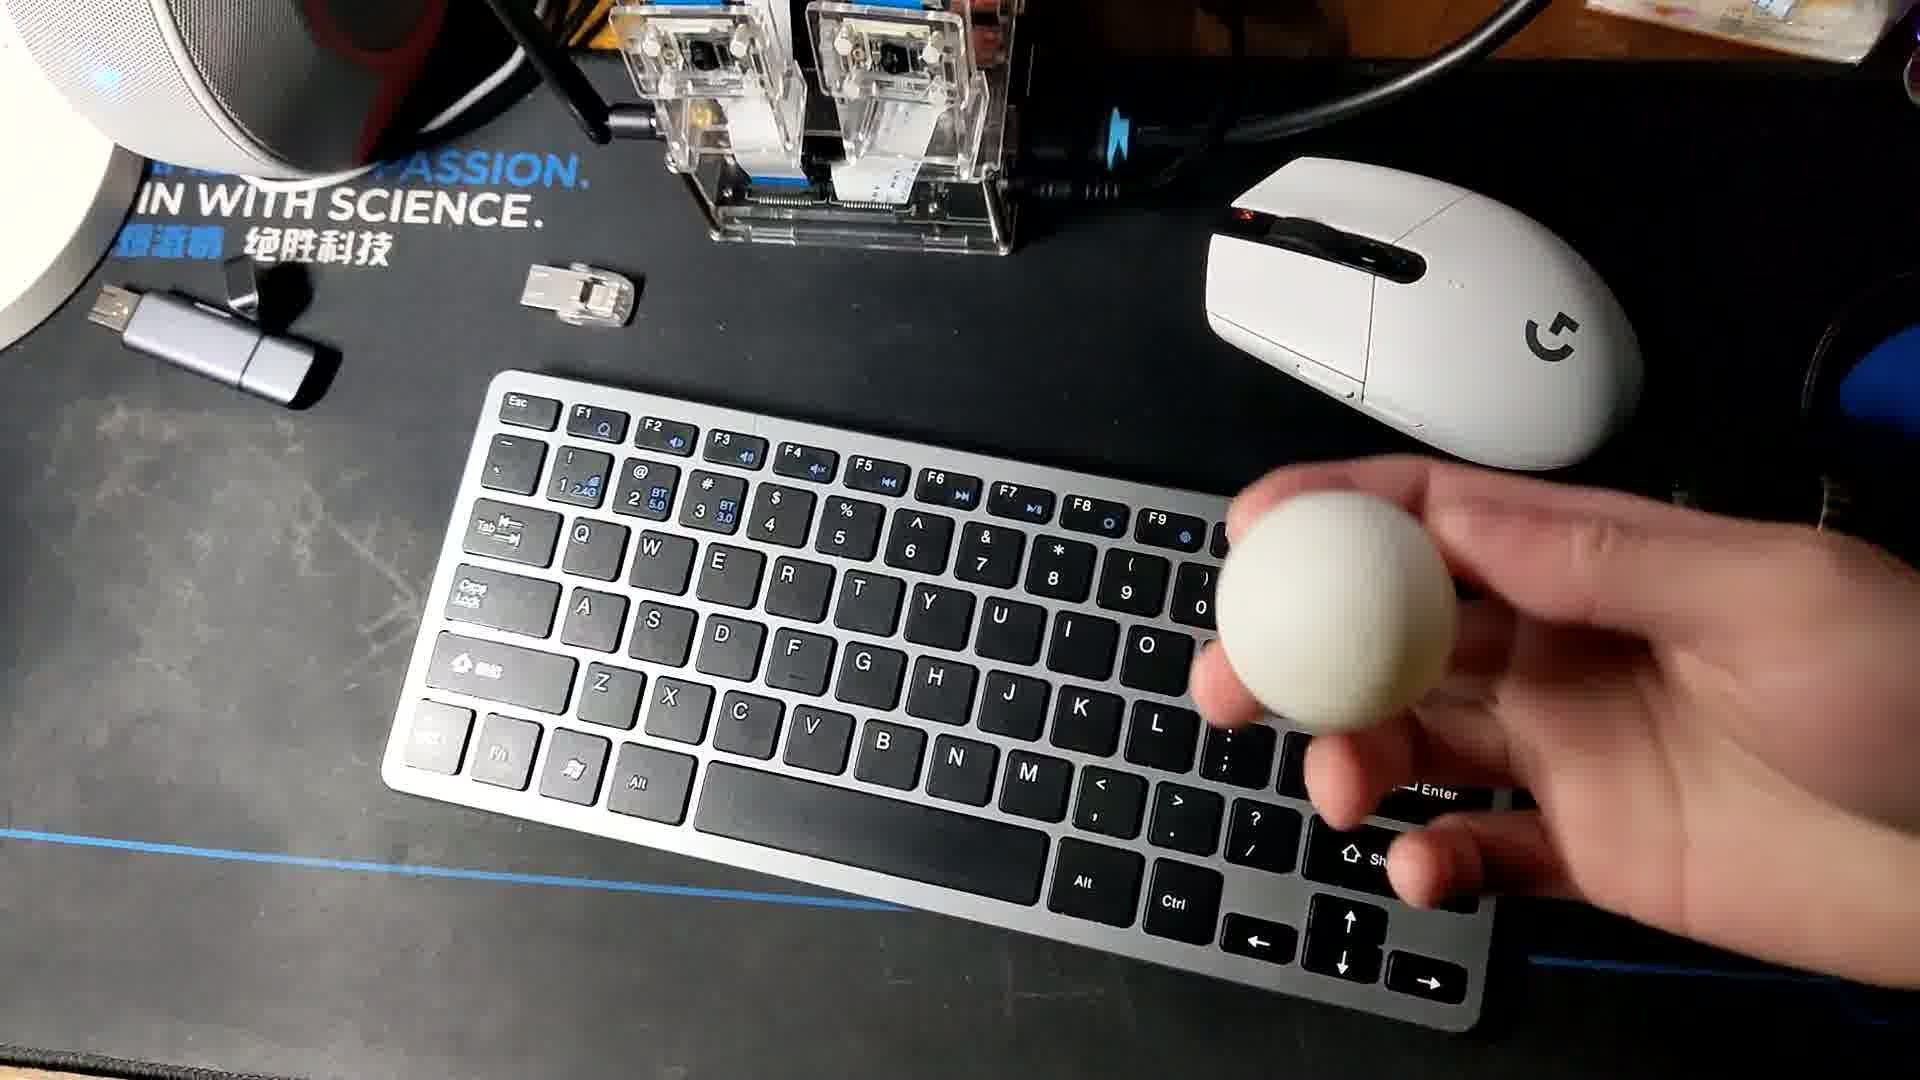Ball: (1218, 496, 1455, 744)
